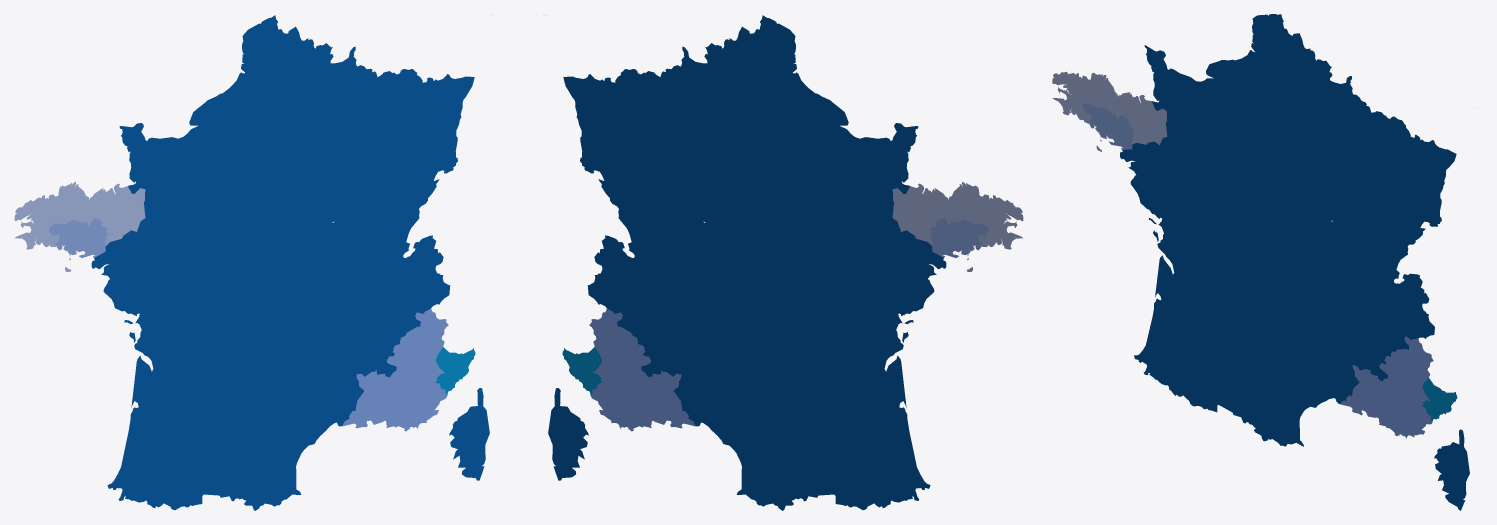
File: france.glb
The picture shows the model from 3 angles, left to right: view 1: azimuth 30°, elevation 25°; view 2: azimuth 150°, elevation 25°; view 3: azimuth 330°, elevation 25°; orthographic projection. The views are drawn at different scales.
Visible parts, largest first — view 1: territories, paca, bretagne, morbihan, alpes-maritime; view 2: territories, paca, bretagne, morbihan, alpes-maritime; view 3: territories, paca, bretagne, morbihan, alpes-maritime.
Part boxes in pixels (x1=…): territories: x1=91, y1=15, x2=489, y2=510; paca: x1=342, y1=308, x2=448, y2=431; bretagne: x1=14, y1=181, x2=145, y2=271; morbihan: x1=49, y1=218, x2=107, y2=260; alpes-maritime: x1=435, y1=347, x2=475, y2=395; territories: x1=548, y1=15, x2=946, y2=510; paca: x1=589, y1=308, x2=695, y2=431; bretagne: x1=892, y1=181, x2=1023, y2=271; morbihan: x1=930, y1=218, x2=988, y2=260; alpes-maritime: x1=562, y1=347, x2=602, y2=395; territories: x1=1120, y1=14, x2=1469, y2=510; paca: x1=1340, y1=336, x2=1433, y2=438; bretagne: x1=1052, y1=71, x2=1167, y2=151; morbihan: x1=1082, y1=103, x2=1134, y2=149; alpes-maritime: x1=1422, y1=378, x2=1457, y2=421.
Size of the model in its own units: 158 by 159 by 2.68e-05.
